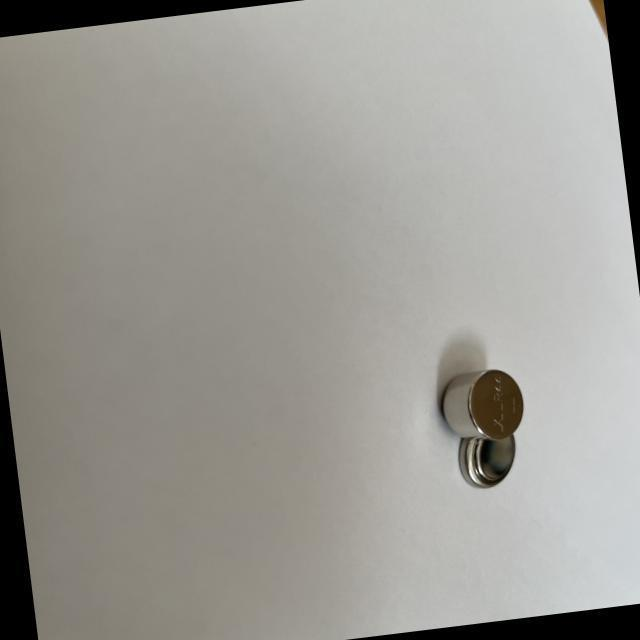COIN: (436, 367, 526, 445), (454, 430, 520, 492)
